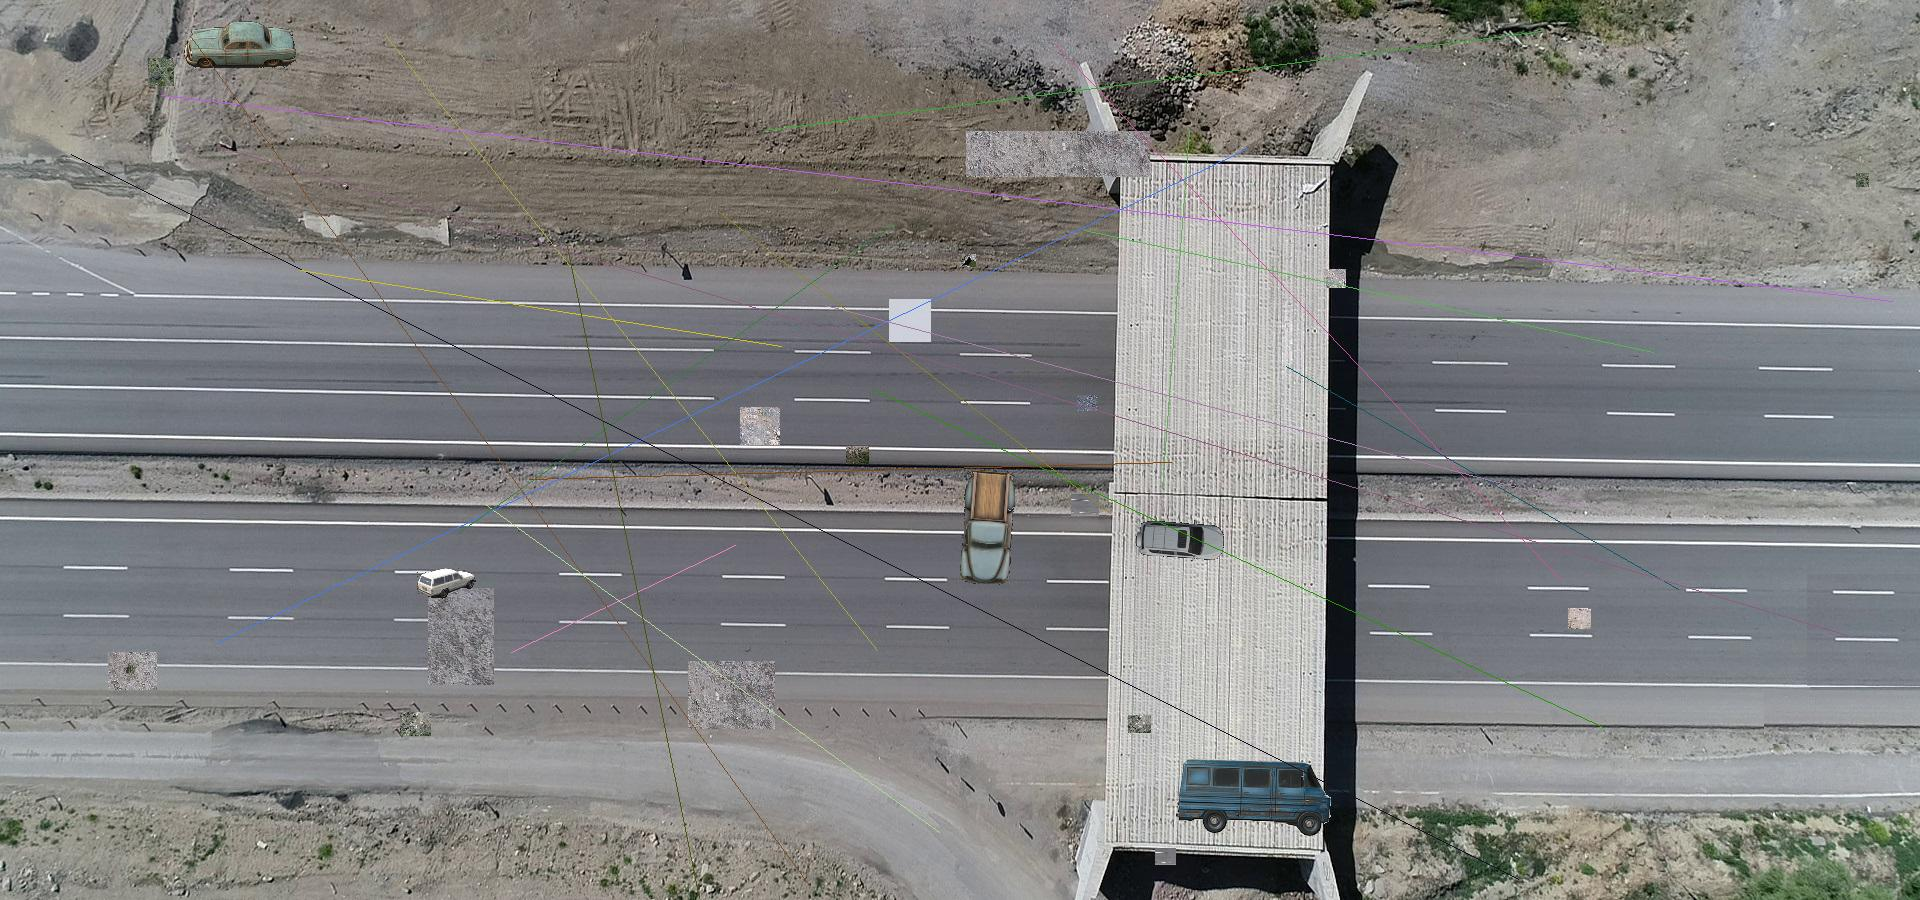arac: (1176, 758, 1332, 838), (960, 470, 1015, 585), (182, 20, 296, 69), (1136, 520, 1226, 563), (418, 568, 478, 599)
